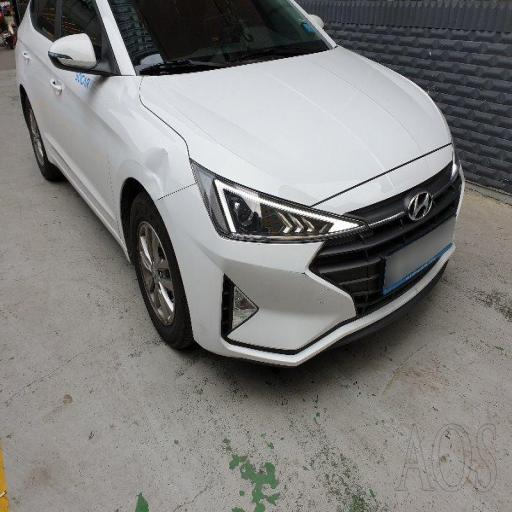dent: (118, 132, 202, 222)
